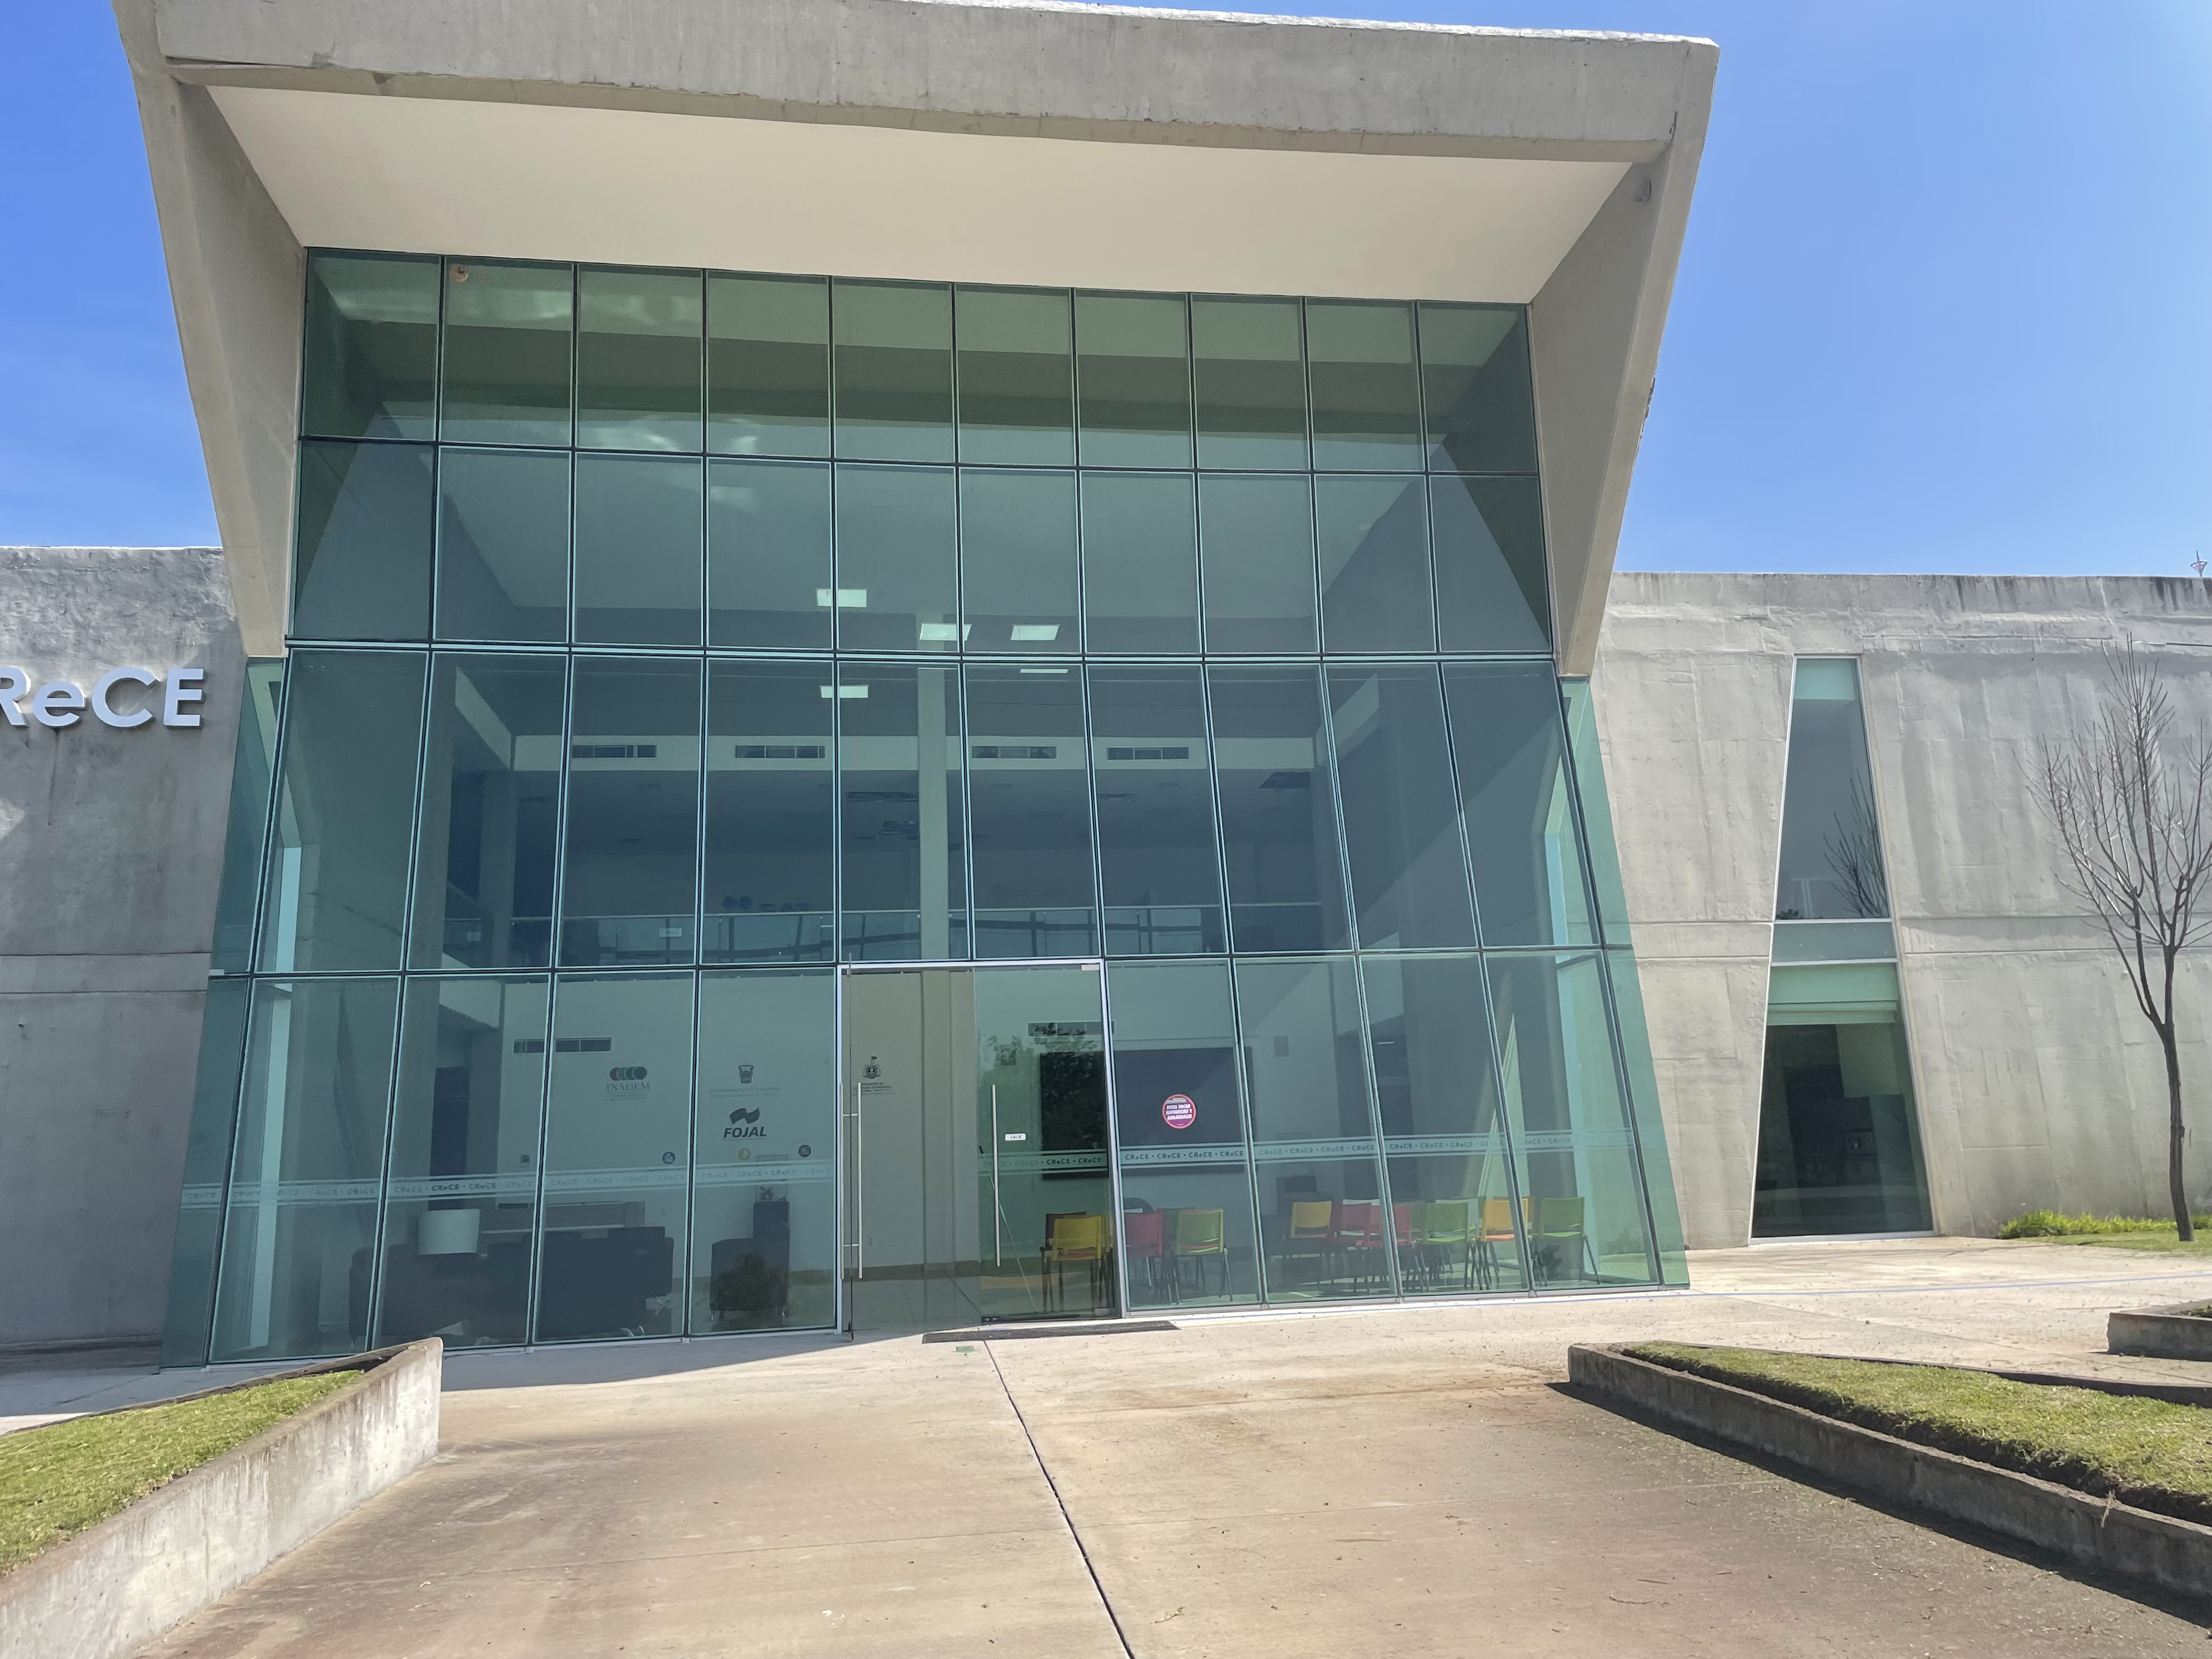crece: (0, 2, 2071, 1338)
